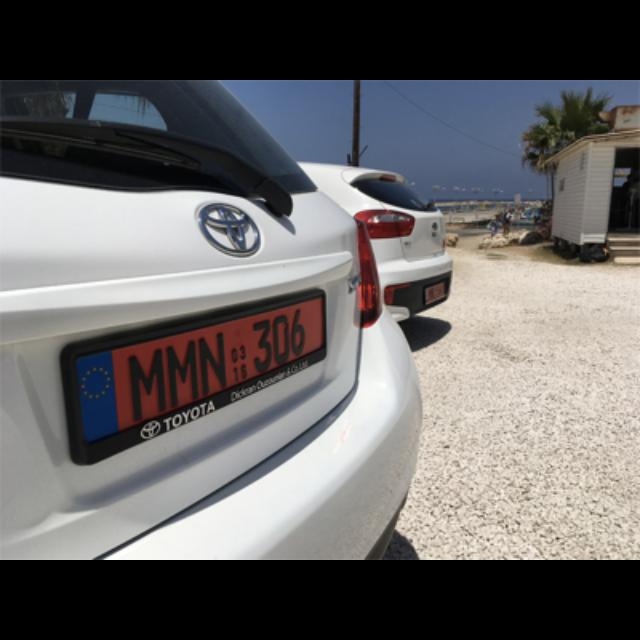carPlate: (59, 288, 327, 471)
